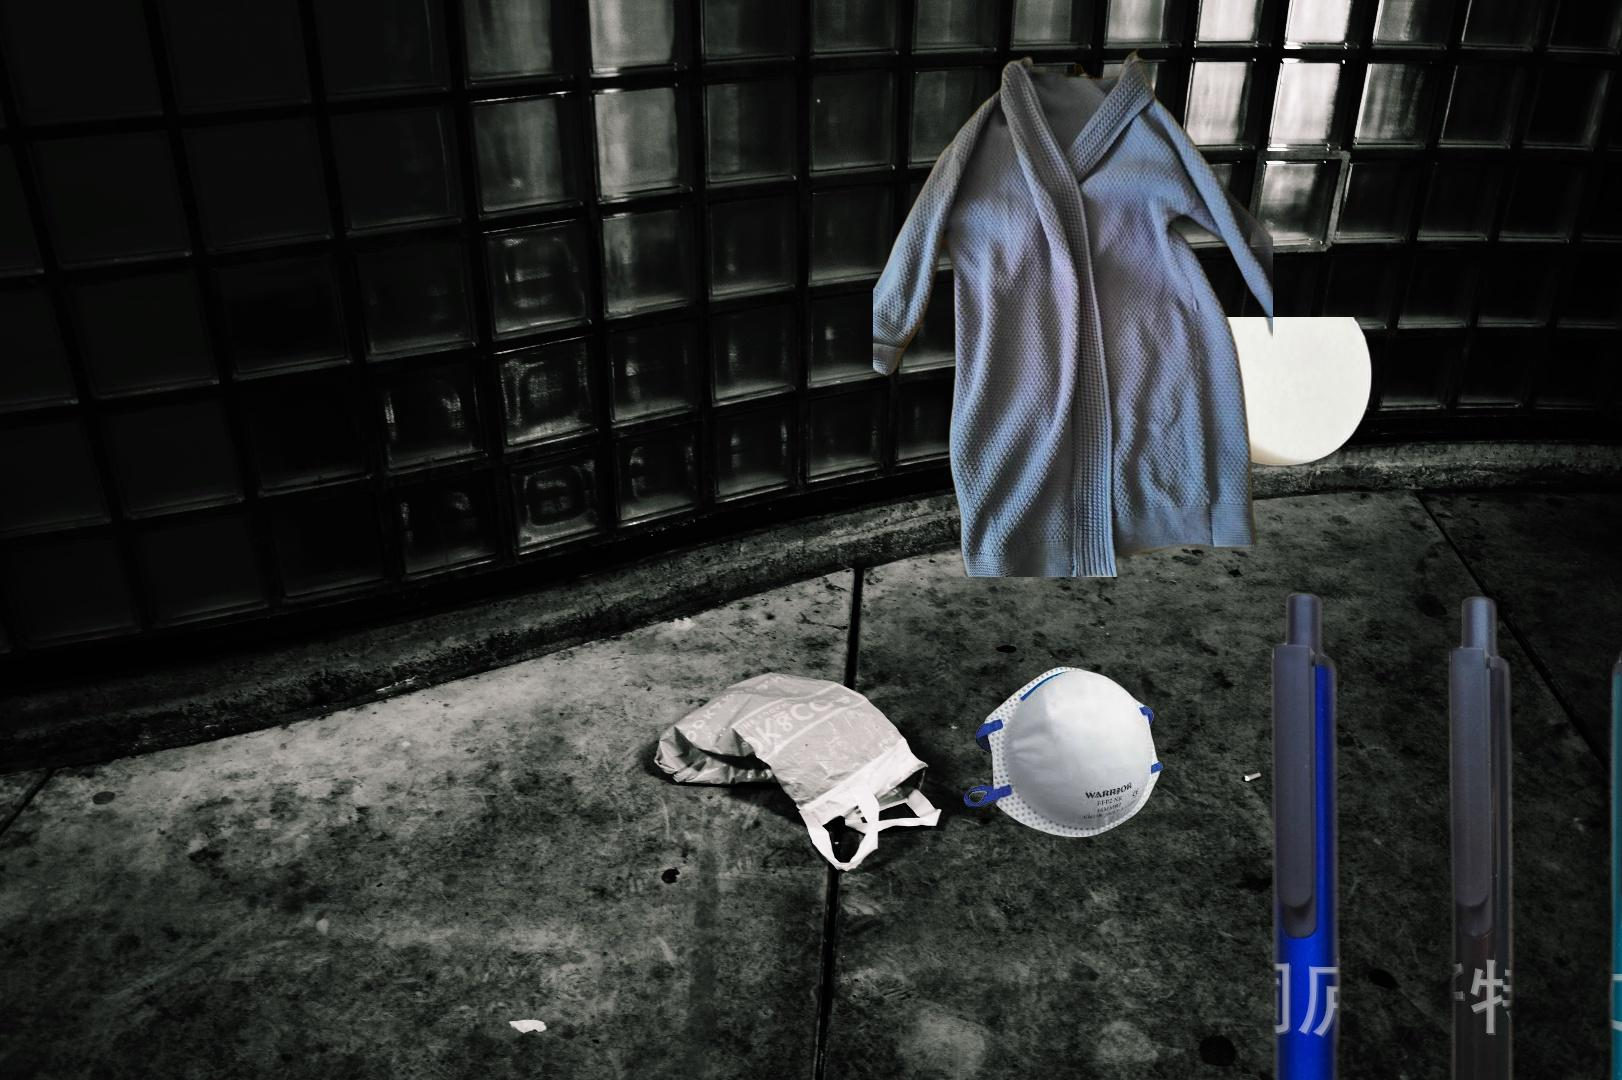clothes: (872, 45, 1273, 577)
paper: (1176, 317, 1599, 470)
penholder: (1206, 585, 1622, 1080)
trash: (960, 664, 1166, 840)
